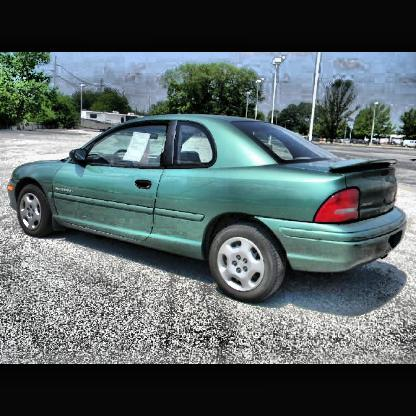Plymouth Neon Coupe 1999: (8, 115, 407, 304)
